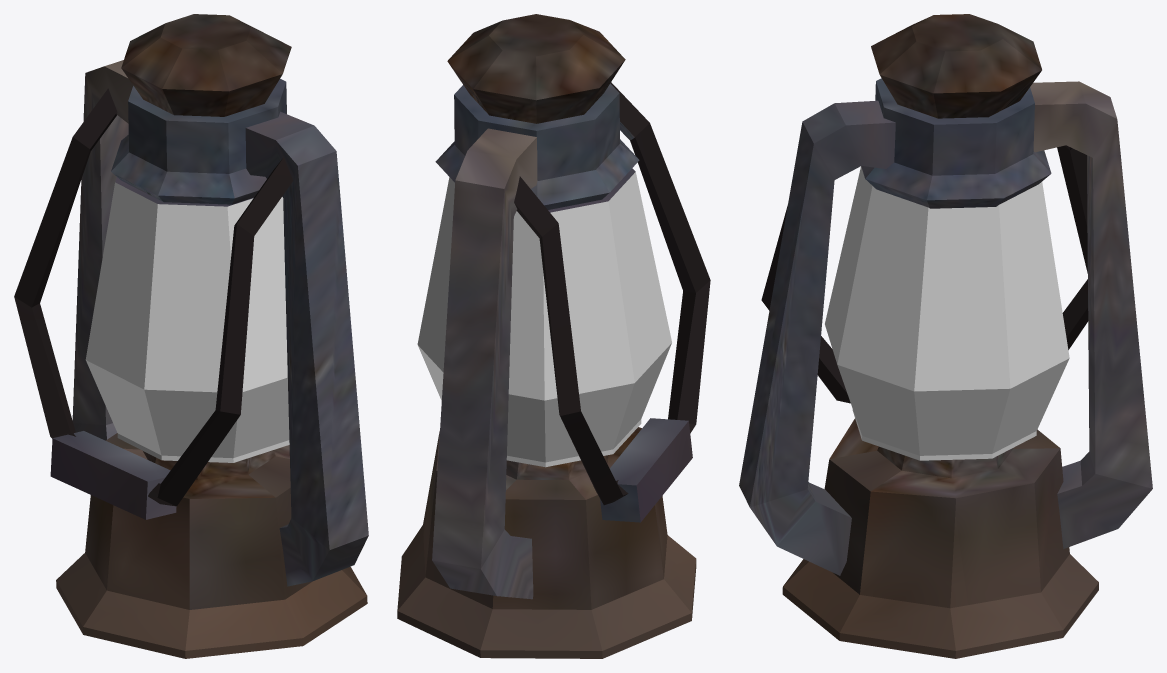
Rendered from lanternnn.fbx.
The picture shows the model from 3 angles, left to right: view 1: azimuth 30°, elevation 25°; view 2: azimuth 150°, elevation 25°; view 3: azimuth 270°, elevation 25°; orthographic projection.
Parts seen in each view (by area): view 1: Lantern.002, Lantern.003; view 2: Lantern.002, Lantern.003; view 3: Lantern.002, Lantern.003.
Boxes of the visible parts, <box> form: Lantern.002: <box>14,14,368,658</box>; Lantern.003: <box>85,182,289,462</box>; Lantern.002: <box>397,14,710,658</box>; Lantern.003: <box>417,172,671,467</box>; Lantern.002: <box>739,14,1152,658</box>; Lantern.003: <box>825,166,1069,460</box>.
Bounding box in the file's own units: 129 × 255 × 169.
